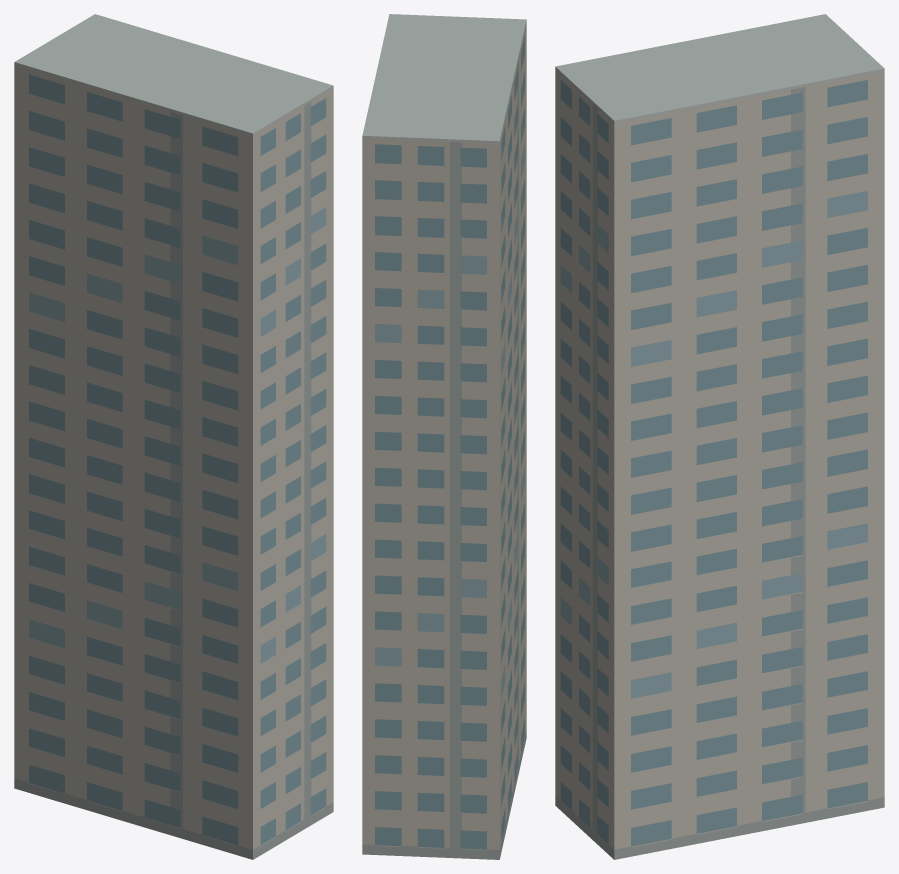
The model's file is residential-ceed3f12-d072-425a-8f2f-dbfc680fe5af.glb.
The picture shows the model from 3 angles, left to right: view 1: azimuth 30°, elevation 25°; view 2: azimuth 150°, elevation 25°; view 3: azimuth 270°, elevation 25°; orthographic projection. The views are drawn at different scales.
Parts seen in each view (by area): view 1: residential-ceed3f12-d072-425a-8f2f-dbfc680fe5af.tmp; view 2: residential-ceed3f12-d072-425a-8f2f-dbfc680fe5af.tmp; view 3: residential-ceed3f12-d072-425a-8f2f-dbfc680fe5af.tmp.
Boxes of the visible parts, bbox=[...] form: residential-ceed3f12-d072-425a-8f2f-dbfc680fe5af.tmp: bbox=[14, 14, 333, 859]; residential-ceed3f12-d072-425a-8f2f-dbfc680fe5af.tmp: bbox=[362, 14, 526, 859]; residential-ceed3f12-d072-425a-8f2f-dbfc680fe5af.tmp: bbox=[555, 14, 884, 859].
Bounding box in the file's own units: 18.93 × 61 × 24.66.
